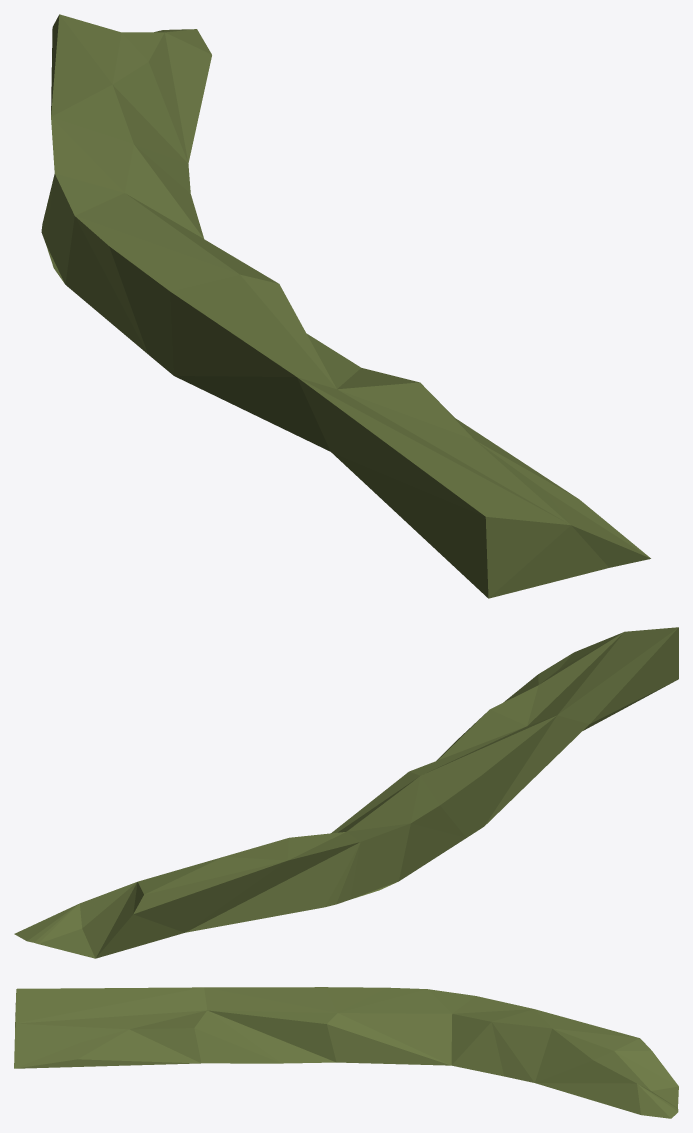
Rendered from ground_50.fbx.
The picture shows the model from 3 angles, top to bottom: view 1: azimuth 30°, elevation 25°; view 2: azimuth 150°, elevation 25°; view 3: azimuth 270°, elevation 25°; orthographic projection. The views are drawn at different scales.
Parts seen in each view (by area): view 1: ground_50; view 2: ground_50; view 3: ground_50.
Boxes of the visible parts, bbox=[...] form: ground_50: bbox=[41, 14, 650, 598]; ground_50: bbox=[14, 627, 678, 958]; ground_50: bbox=[14, 987, 678, 1118].
Size of the model in its own units: 1.61 by 0.3423 by 4.93.
